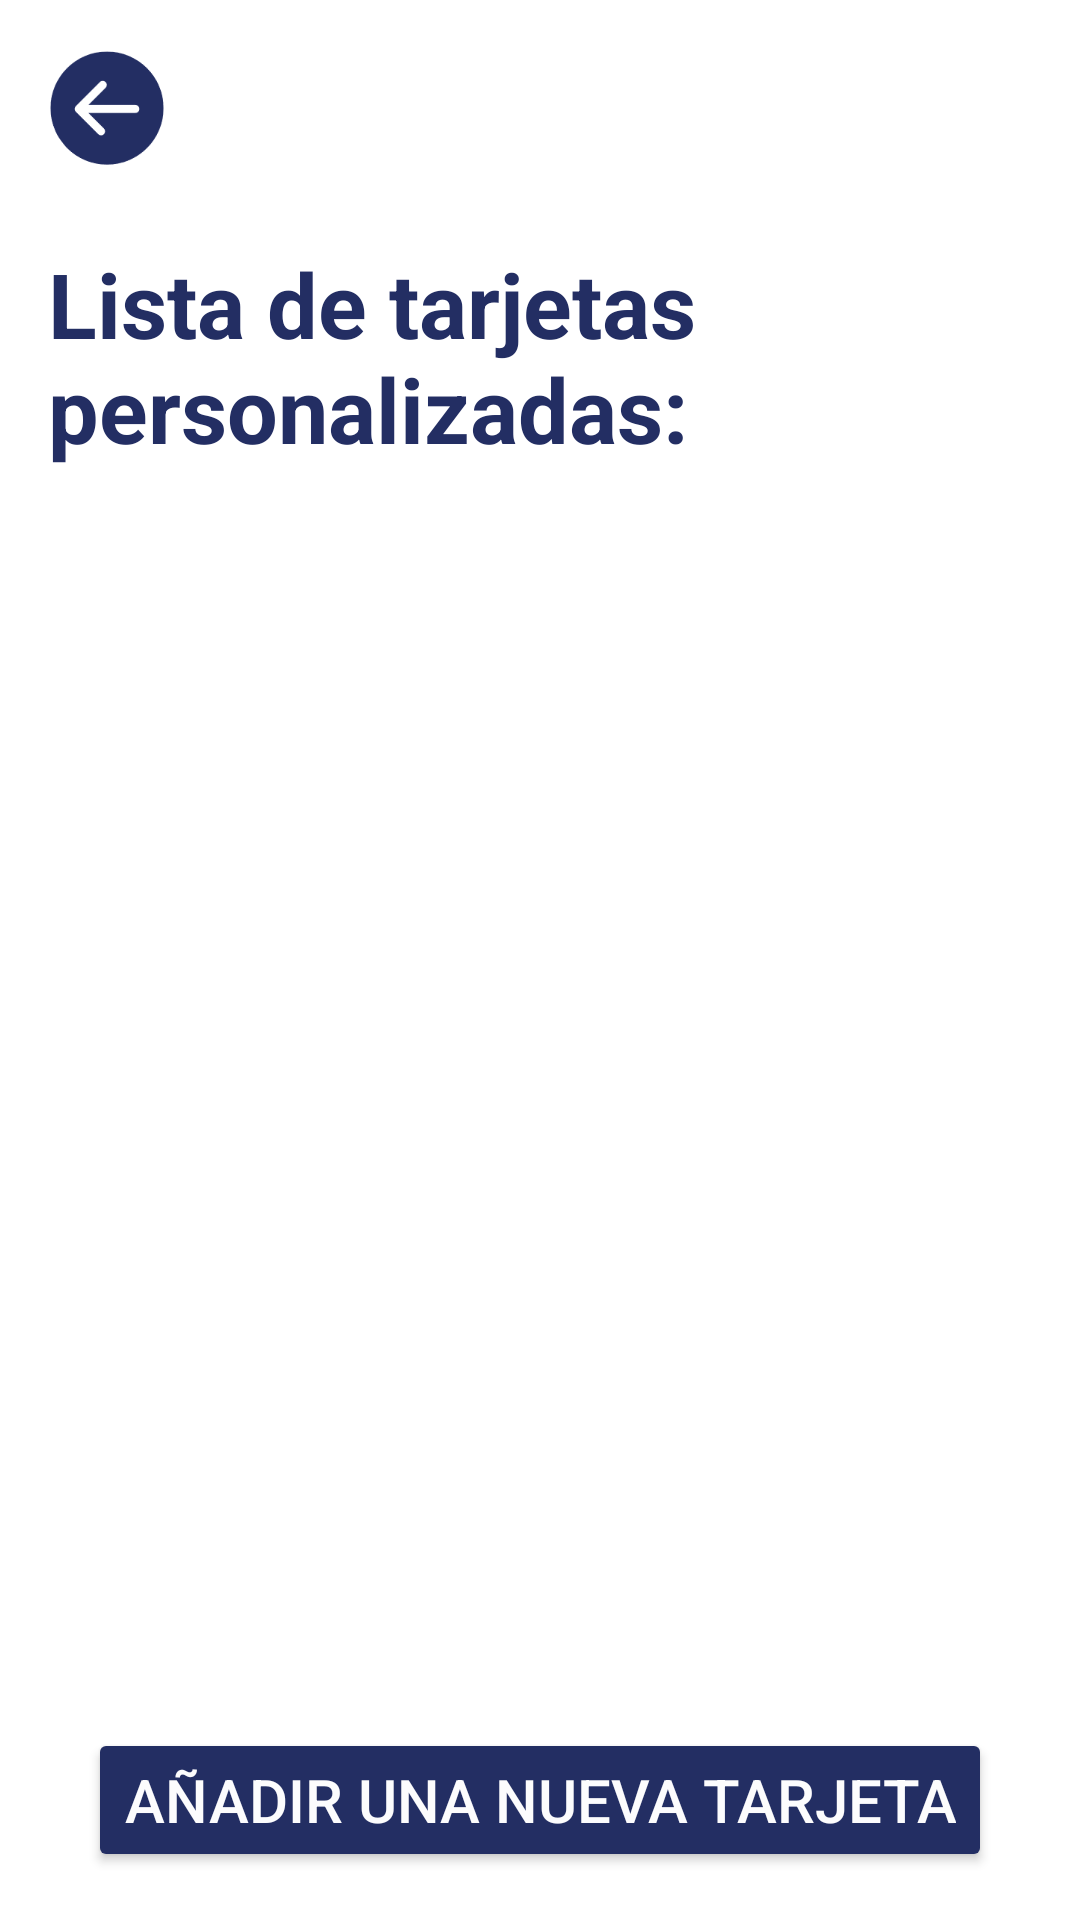

Icon bounding boxes for this 1080px×1920px phone screenshot, format (x1,y1,x2,y2):
goback: (50,51,164,165)
